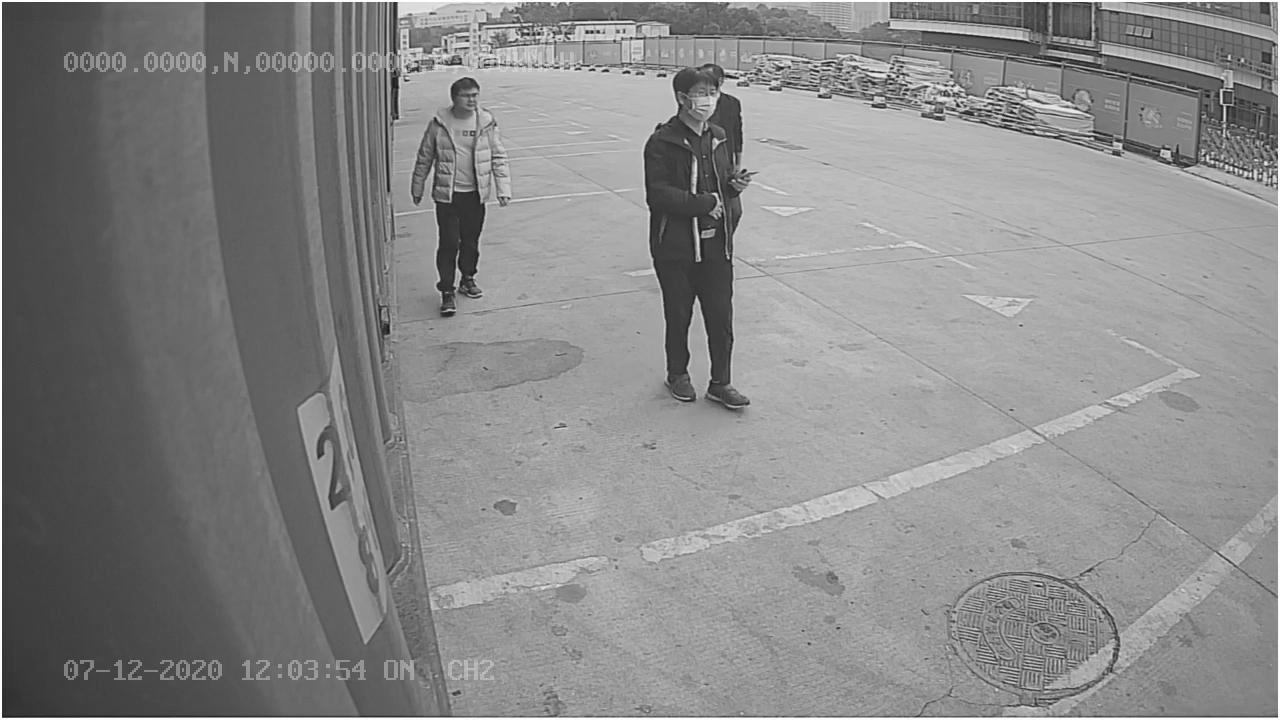person: (412, 73, 515, 320)
